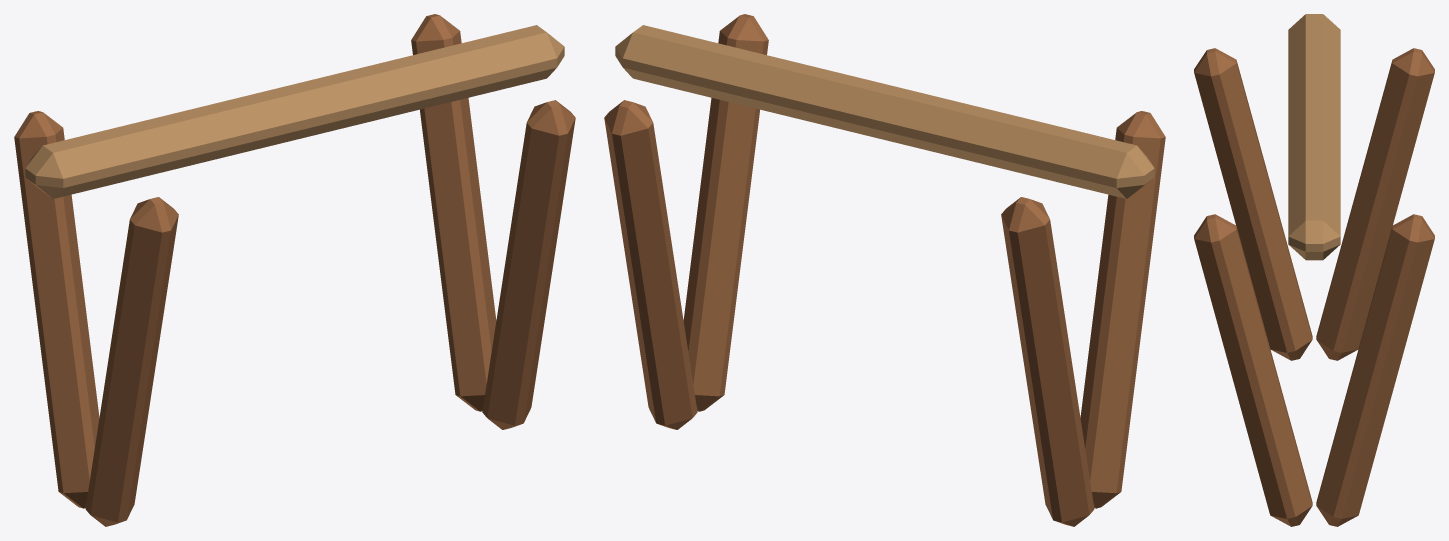
The model's file is sawhorse.glb.
3 views of the same model, side by side, from view 1: azimuth 30°, elevation 25°; view 2: azimuth 150°, elevation 25°; view 3: azimuth 270°, elevation 25° (orthographic). The views are drawn at different scales.
Parts seen in each view (by area): view 1: body; view 2: body; view 3: body.
Part boxes in pixels (left/top/right/bottom): body: left=14, top=14, right=575, bottom=526; body: left=604, top=14, right=1165, bottom=526; body: left=1194, top=14, right=1434, bottom=526.
Size of the model in its own units: 1.2 by 0.8205 by 0.5513.
